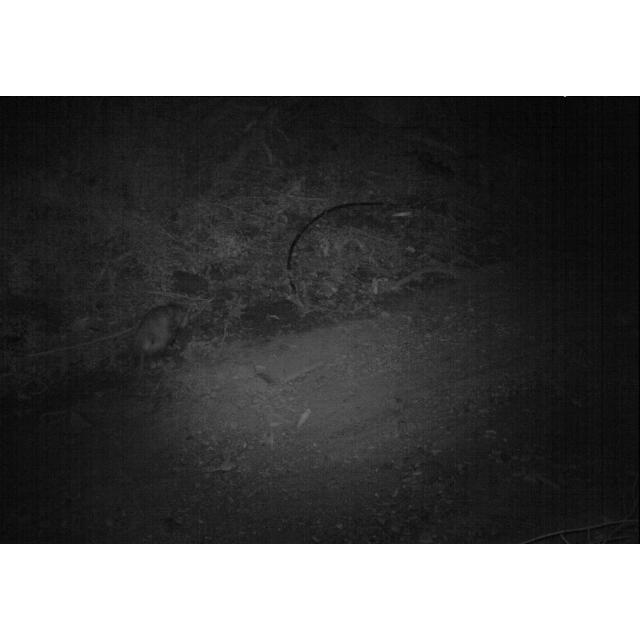animals: (132, 300, 195, 372)
